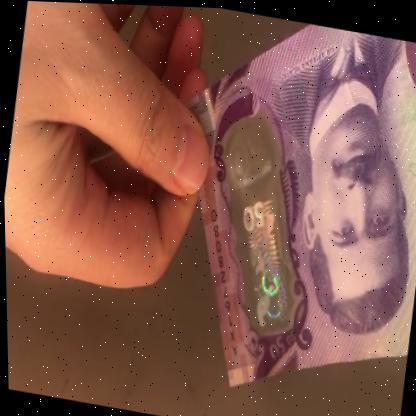50F: (208, 130, 314, 332)
